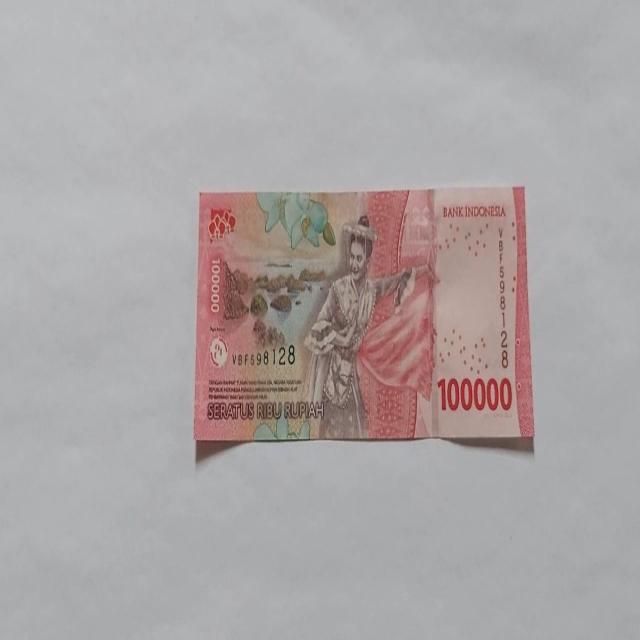Kertas: (193, 185, 533, 448), (436, 374, 513, 414)
